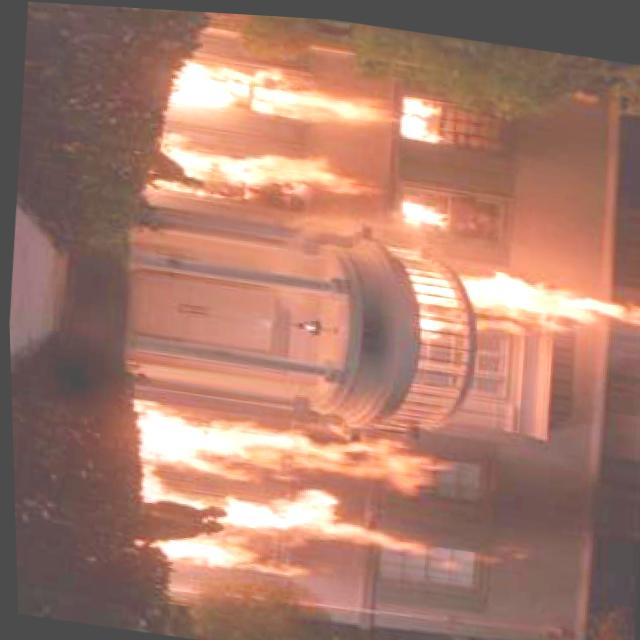Fire: (125, 397, 473, 597), (118, 123, 387, 228), (378, 248, 640, 344), (143, 57, 438, 135), (392, 186, 472, 232)
